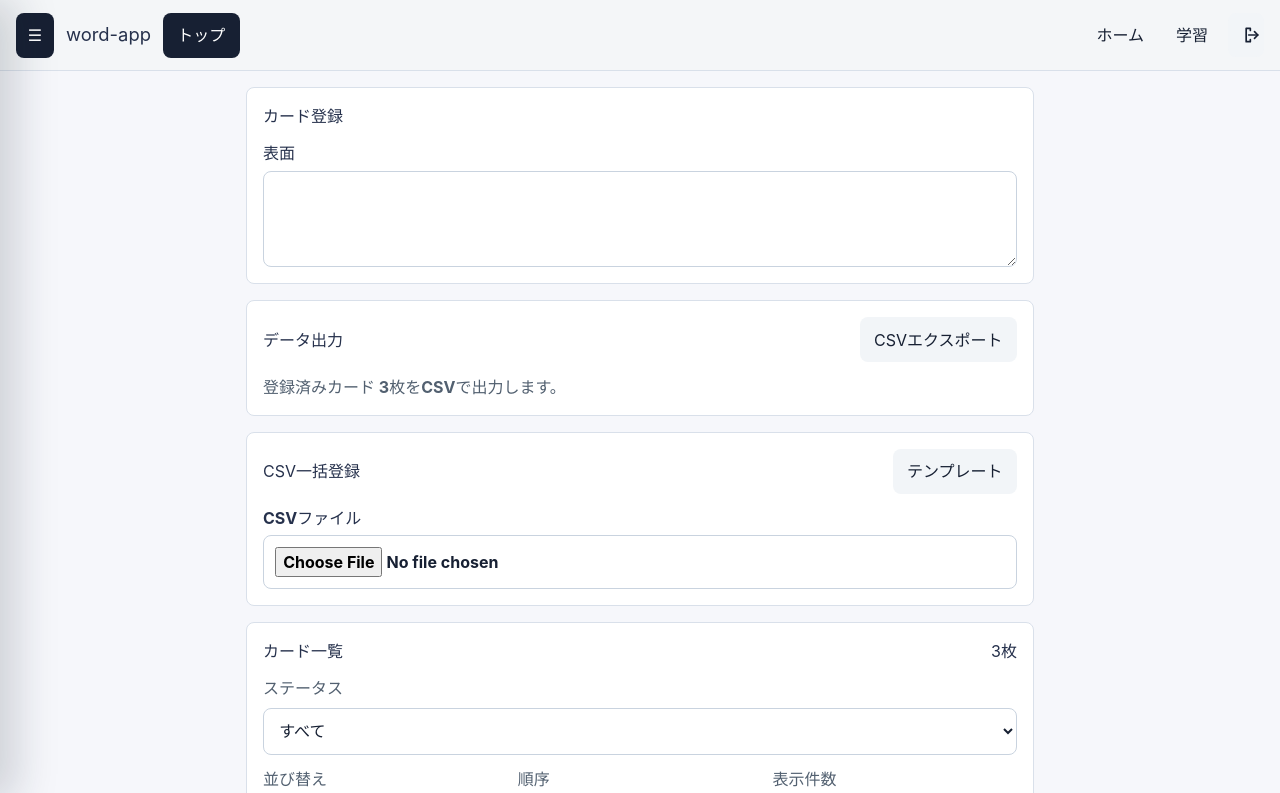
it: App › shows a snackbar after creating a card
Type "Apple" into the text box labelled "表面".
click(640, 219); type("Apple")  # box left=263, top=171, right=1017, bottom=267
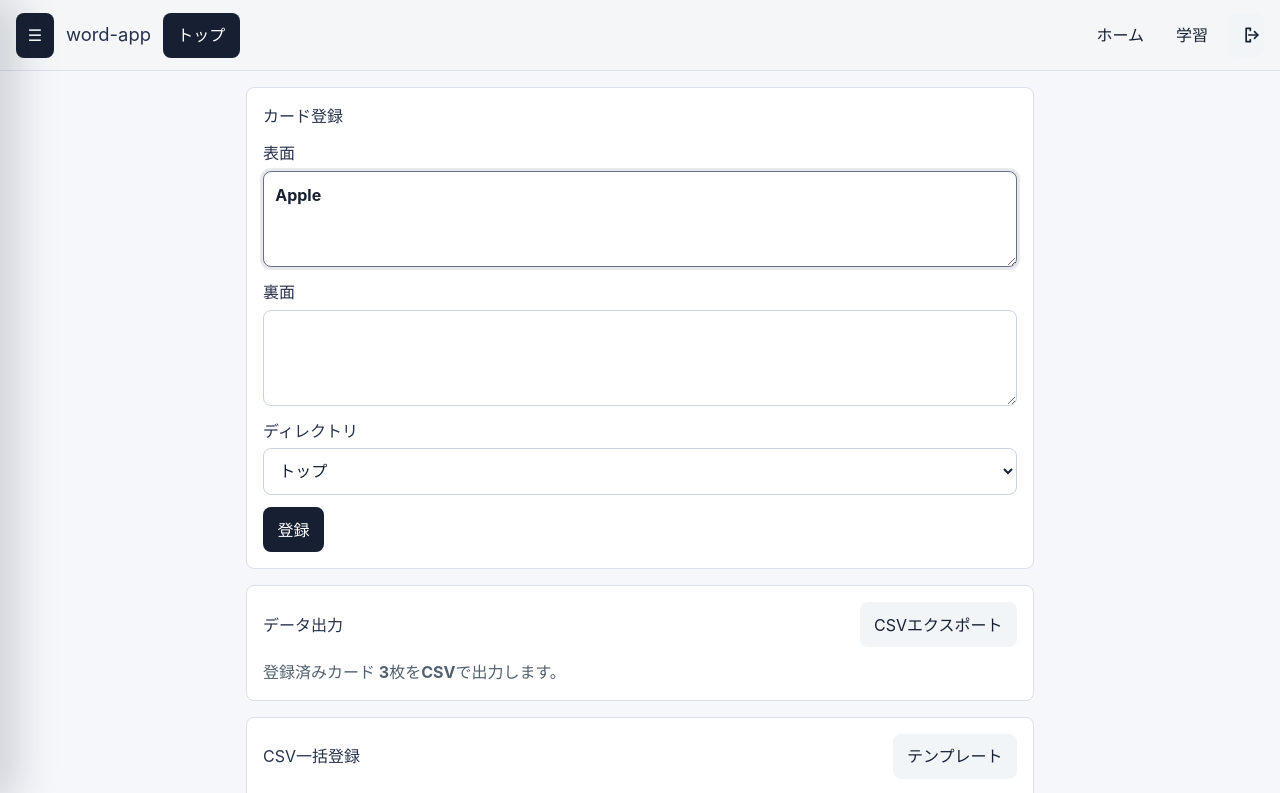
Type "りんご" into the text box labelled "裏面".
click(640, 358); type("りんご")  # box left=263, top=310, right=1017, bottom=406
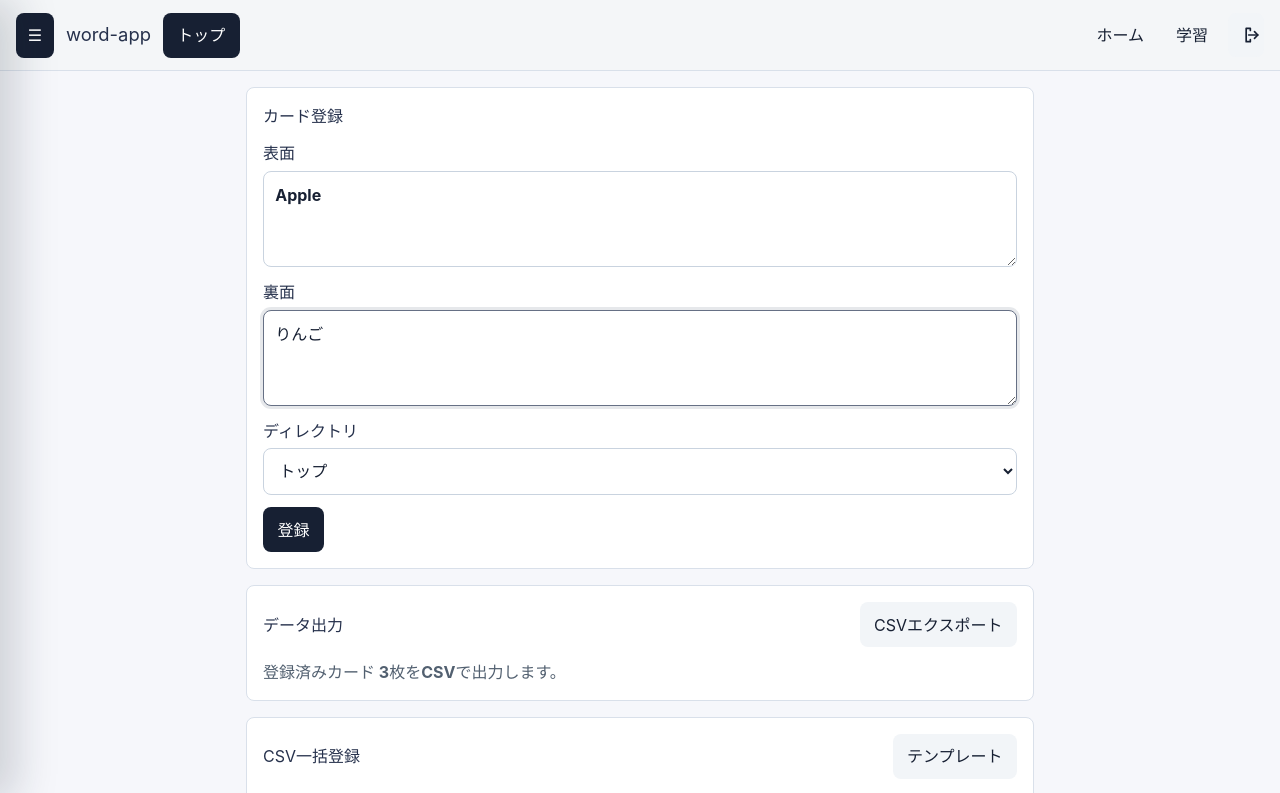
Click the button "登録".
click(293, 530)  # box left=263, top=508, right=324, bottom=552
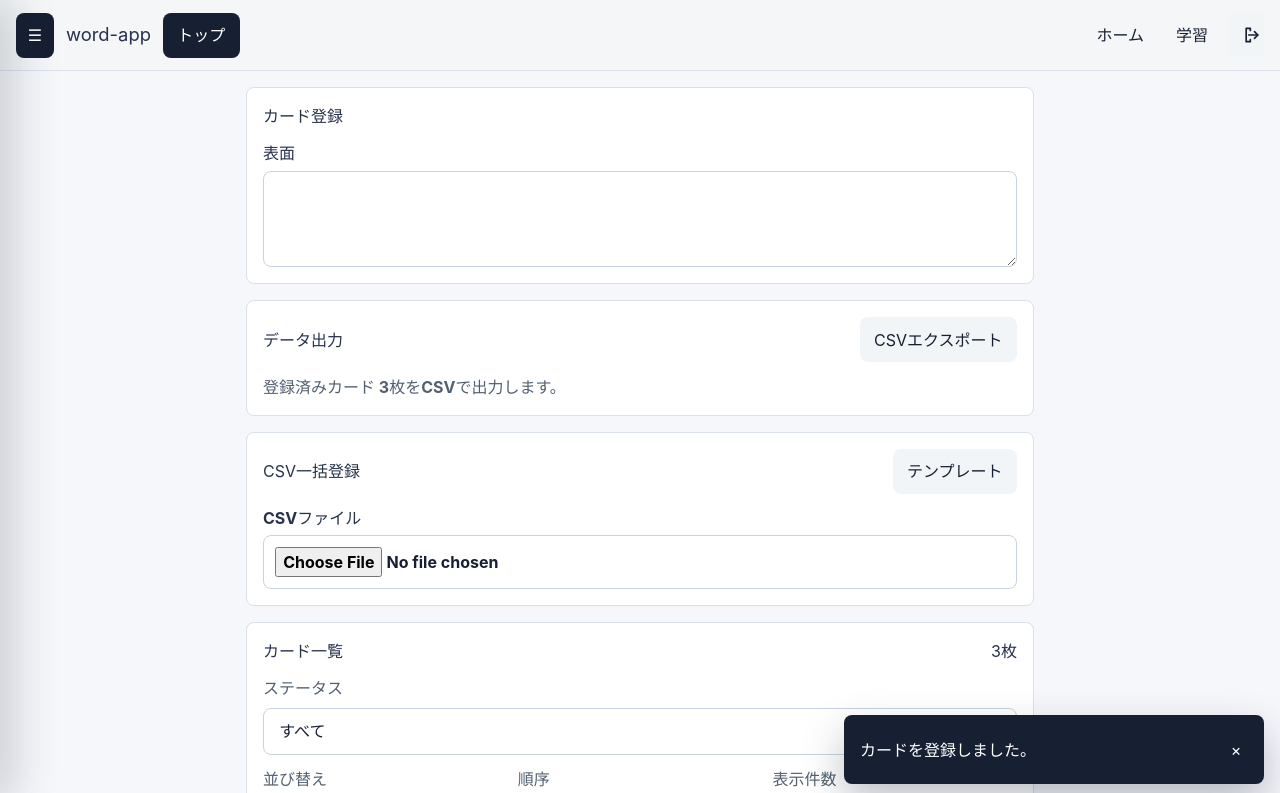
Now the message shows "カードを登録しました。", box left=860, top=740, right=1036, bottom=760
